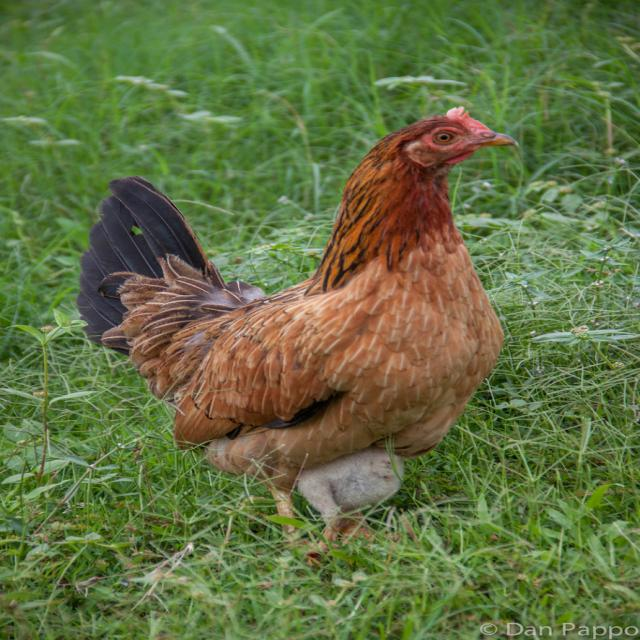Chicken: (76, 106, 519, 553)
